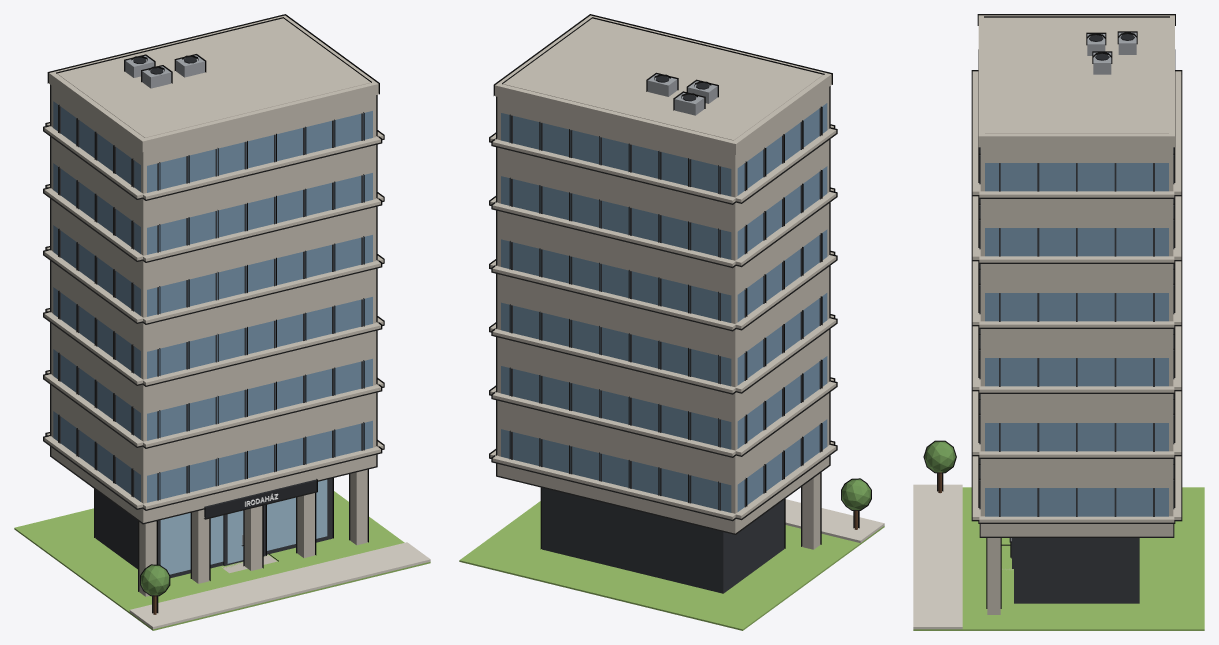
Rendered from Buro_yetmisler_3.fbx.
3 views of the same model, side by side, from view 1: azimuth 30°, elevation 25°; view 2: azimuth 150°, elevation 25°; view 3: azimuth 270°, elevation 25° (orthographic). The views are drawn at different scales.
Visible parts, largest first — view 1: Buro_yetmisler_3; view 2: Buro_yetmisler_3; view 3: Buro_yetmisler_3.
Boxes of the visible parts, box(x1,y1,x2,y2) form: Buro_yetmisler_3: box(14, 14, 430, 630); Buro_yetmisler_3: box(459, 14, 884, 630); Buro_yetmisler_3: box(913, 14, 1204, 630).
Bounding box in the file's own units: 15 × 24.61 × 13.
